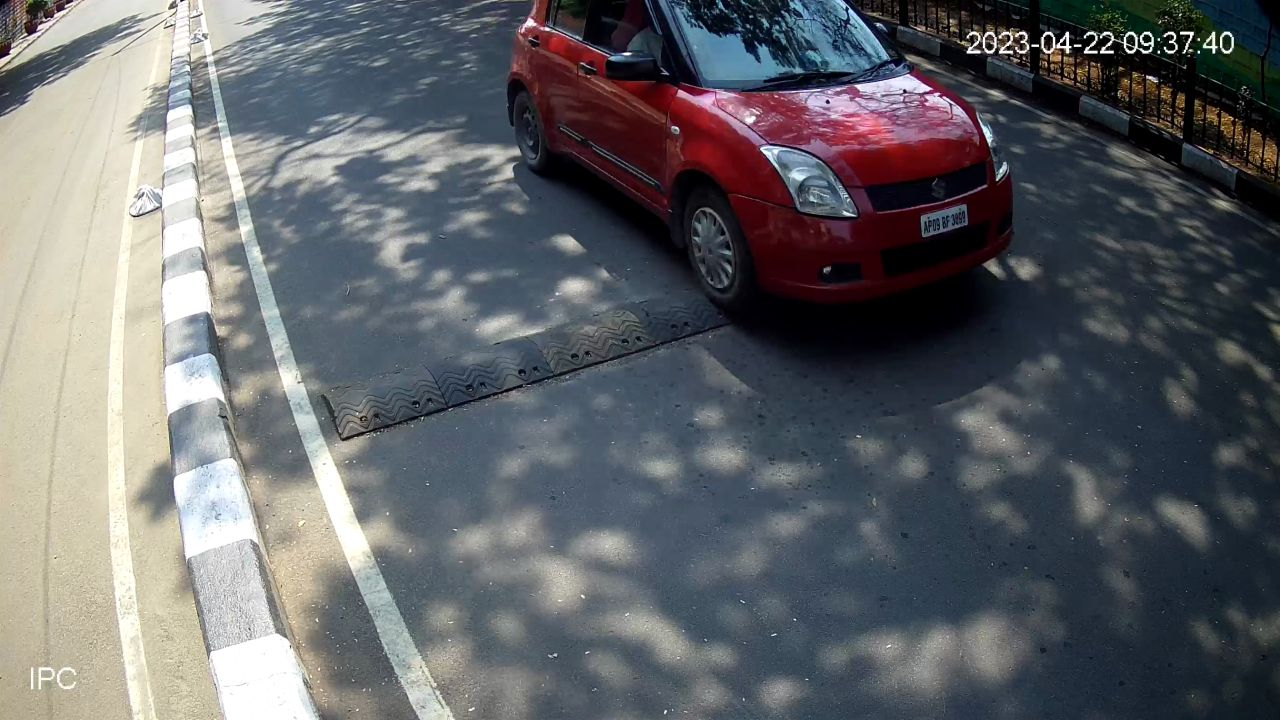license_plate: (916, 201, 973, 242)
